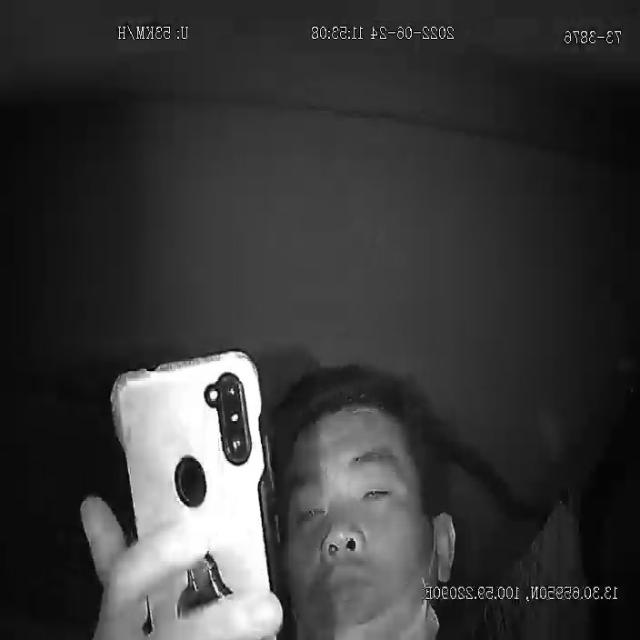phone: (109, 345, 284, 640)
